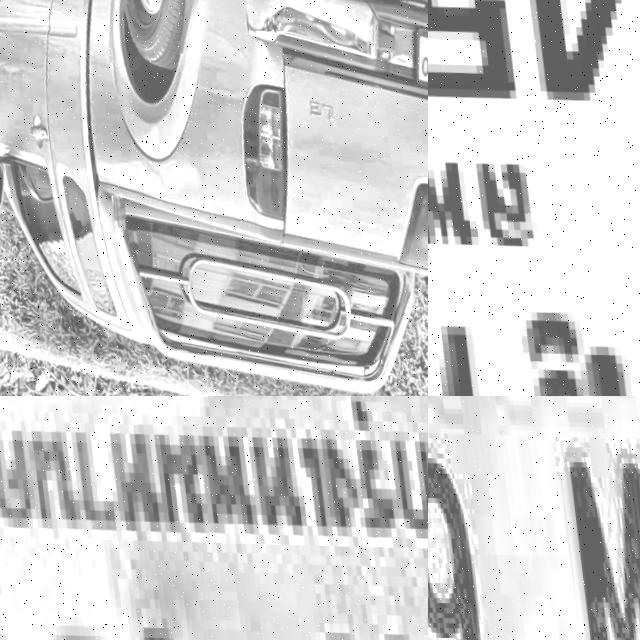license-plate: (0, 396, 428, 640), (428, 0, 640, 396), (428, 396, 640, 640), (397, 16, 428, 104)
